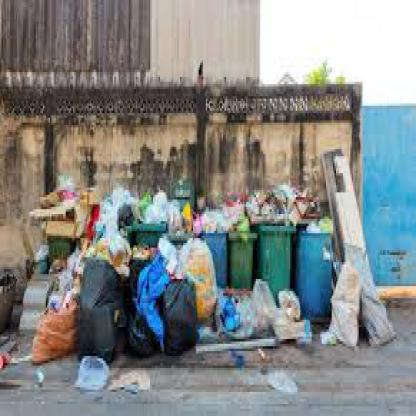Garbage: (128, 188, 326, 224), (82, 238, 124, 375), (27, 298, 83, 356), (336, 272, 370, 360), (210, 279, 256, 332), (103, 183, 124, 255), (46, 274, 73, 313), (251, 188, 278, 224), (29, 363, 58, 392), (178, 195, 198, 226), (46, 185, 70, 207), (322, 327, 340, 349)
